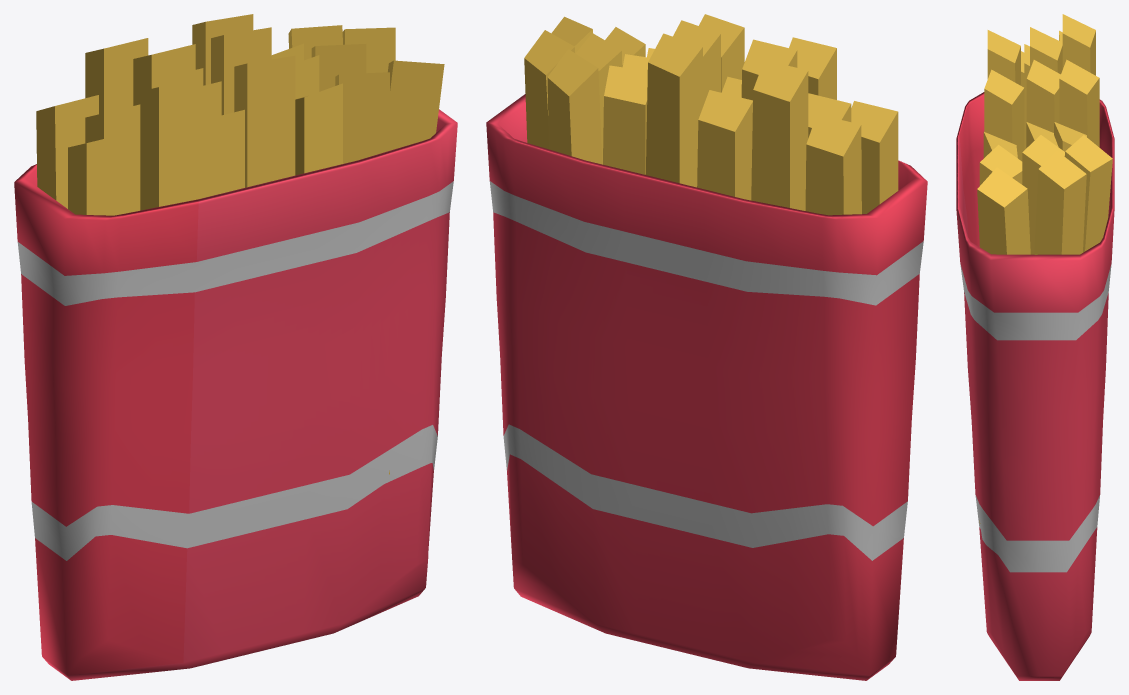
The model's file is Fries.fbx.
3 views of the same model, side by side, from view 1: azimuth 30°, elevation 25°; view 2: azimuth 150°, elevation 25°; view 3: azimuth 270°, elevation 25° (orthographic). The views are drawn at different scales.
Parts seen in each view (by area): view 1: Holder, Fries.001, Fries.002, Fries, Fries.006, Fries.005, Fries.014, Fries.004, Fries.003, Fries.015, Fries.011, Fries.012 (+7 smaller); view 2: Holder, Fries.015, Fries.016, Fries.017, Fries.014, Fries.019, Fries.018, Fries, Fries.007, Fries.001, Fries.011, Fries.002 (+5 smaller); view 3: Holder, Fries.007, Fries.006, Fries.019, Fries.016, Fries.002, Fries.011, Fries.008, Fries.015, Fries.001, Fries.012, Fries.005 (+4 smaller).
Part boxes in pixels (<box>): Holder: <box>14,109,457,680</box>; Fries.001: <box>140,76,202,210</box>; Fries.002: <box>234,55,295,187</box>; Fries: <box>68,132,130,215</box>; Fries.006: <box>388,60,444,150</box>; Fries.005: <box>335,72,389,474</box>; Fries.014: <box>36,95,98,208</box>; Fries.004: <box>295,83,342,175</box>; Fries.003: <box>203,109,244,197</box>; Fries.015: <box>85,38,148,114</box>; Fries.011: <box>211,27,271,115</box>; Fries.012: <box>133,44,195,105</box>; Holder: <box>486,94,927,680</box>; Fries.015: <box>751,60,808,210</box>; Fries.016: <box>645,33,702,187</box>; Fries.017: <box>697,90,752,200</box>; Fries.014: <box>805,114,861,215</box>; Fries.019: <box>547,49,602,164</box>; Fries.018: <box>603,65,647,174</box>; Fries: <box>851,101,898,213</box>; Fries.007: <box>524,30,574,149</box>; Fries.001: <box>789,37,836,99</box>; Fries.011: <box>673,20,720,106</box>; Fries.002: <box>699,14,744,92</box>; Holder: <box>956,92,1114,680</box>; Fries.007: <box>1034,151,1086,254</box>; Fries.006: <box>977,167,1030,254</box>; Fries.019: <box>1064,135,1112,252</box>; Fries.016: <box>1059,59,1099,147</box>; Fries.002: <box>984,69,1024,161</box>; Fries.011: <box>1026,60,1060,132</box>; Fries.008: <box>1022,135,1064,254</box>; Fries.015: <box>1062,14,1095,75</box>; Fries.001: <box>987,30,1020,85</box>; Fries.012: <box>1030,27,1062,74</box>; Fries.005: <box>979,145,1022,523</box>.
Size of the model in its own units: 105 by 153 by 40.71.
